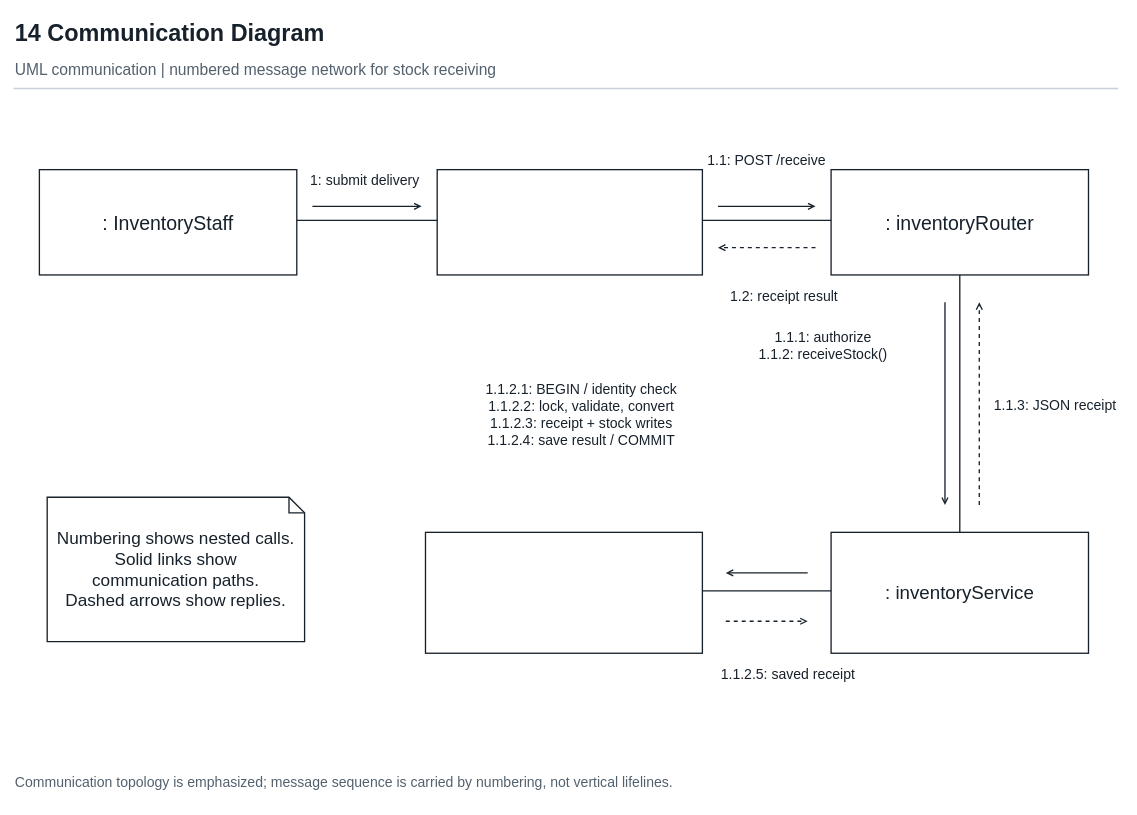
This 1137x815 diagram has some shape labels left out. Here are the shapes that lost their labels. From the top down, the centre of each, then its label:
At [569,222]: ": ReceivingUI / Axios".
At [563,592]: ": Sequelize / MySQL".
